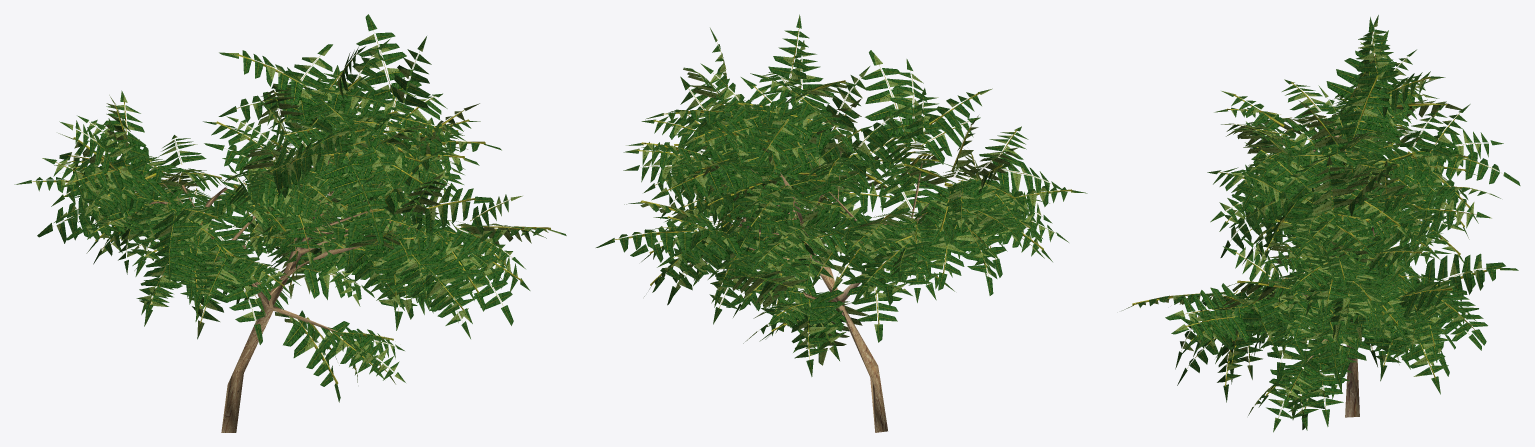
File: acacia_20k.gltf
3 views of the same model, side by side, from view 1: azimuth 30°, elevation 25°; view 2: azimuth 150°, elevation 25°; view 3: azimuth 270°, elevation 25° (orthographic). The views are drawn at different scales.
Visible parts, largest first — view 1: acacia_20k; view 2: acacia_20k; view 3: acacia_20k.
Boxes of the visible parts, <box> form: acacia_20k: <box>14,14,566,432</box>; acacia_20k: <box>596,14,1087,432</box>; acacia_20k: <box>1122,15,1520,432</box>.
Bounding box in the file's own units: 7.73 × 6.5 × 6.46.
Materials: 2 (2 with a texture image).
